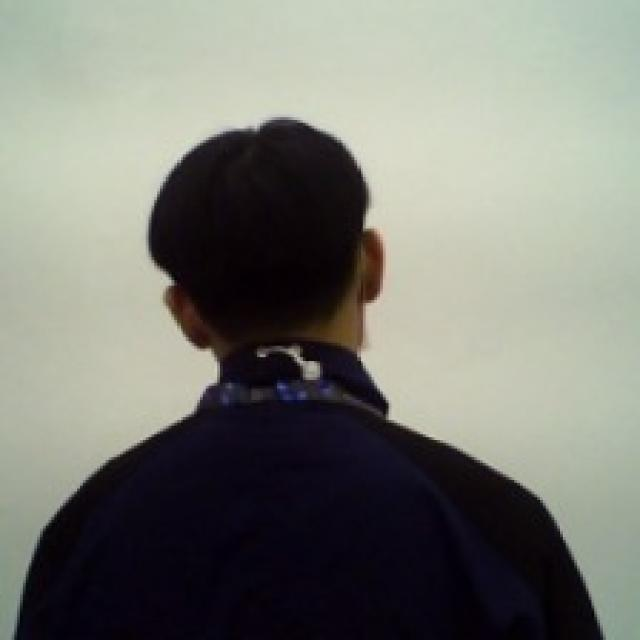no_gloves: (146, 114, 390, 368)
